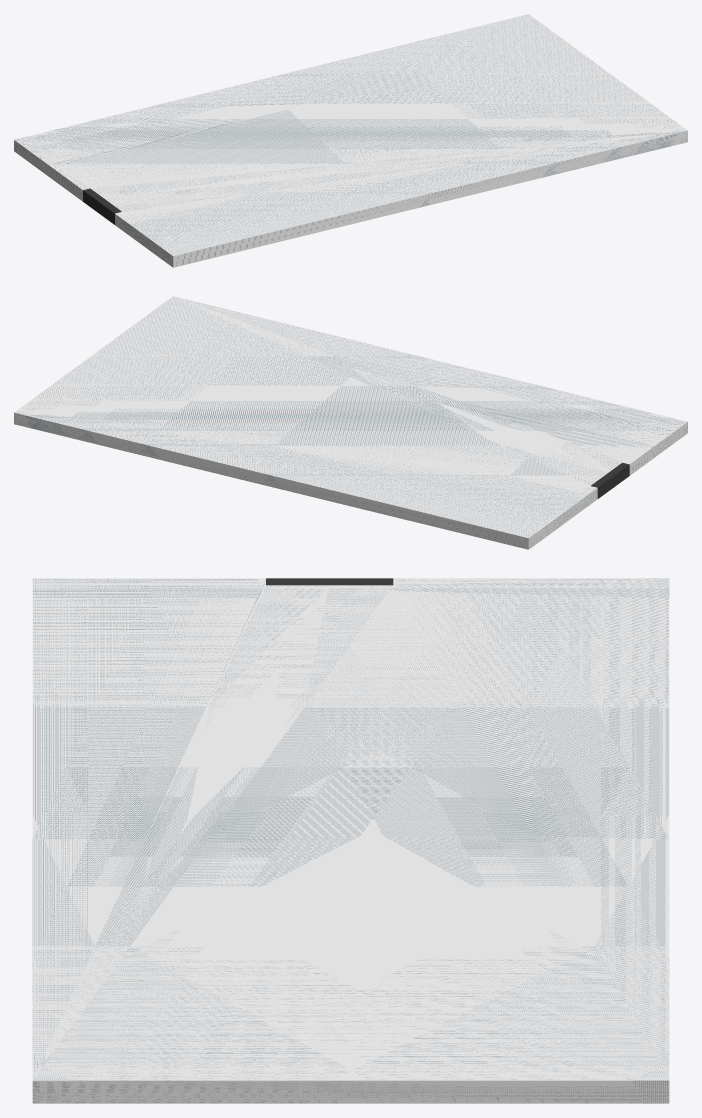
The model's file is alasmobil.obj.
3 renders of one model, top to bottom at view 1: azimuth 30°, elevation 25°; view 2: azimuth 150°, elevation 25°; view 3: azimuth 270°, elevation 25°, orthographic. The views are drawn at different scales.
Visible parts, largest first — view 1: Mesh1 alasmobil1 Model; view 2: Mesh1 alasmobil1 Model; view 3: Mesh1 alasmobil1 Model.
Boxes of the visible parts, x1=… form: Mesh1 alasmobil1 Model: x1=14, y1=14, x2=687, y2=267; Mesh1 alasmobil1 Model: x1=14, y1=296, x2=687, y2=549; Mesh1 alasmobil1 Model: x1=32, y1=578, x2=669, y2=1103.
Bounding box in the file's own units: 14 × 0.3 × 7.5.
